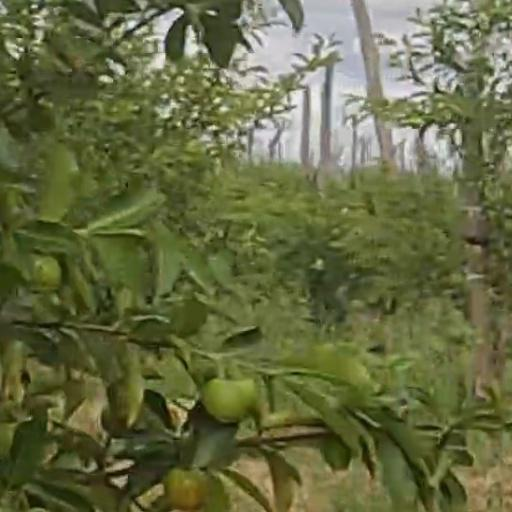acerola_verde: (205, 377, 257, 418)
acerola_vermelha: (165, 467, 206, 508)
